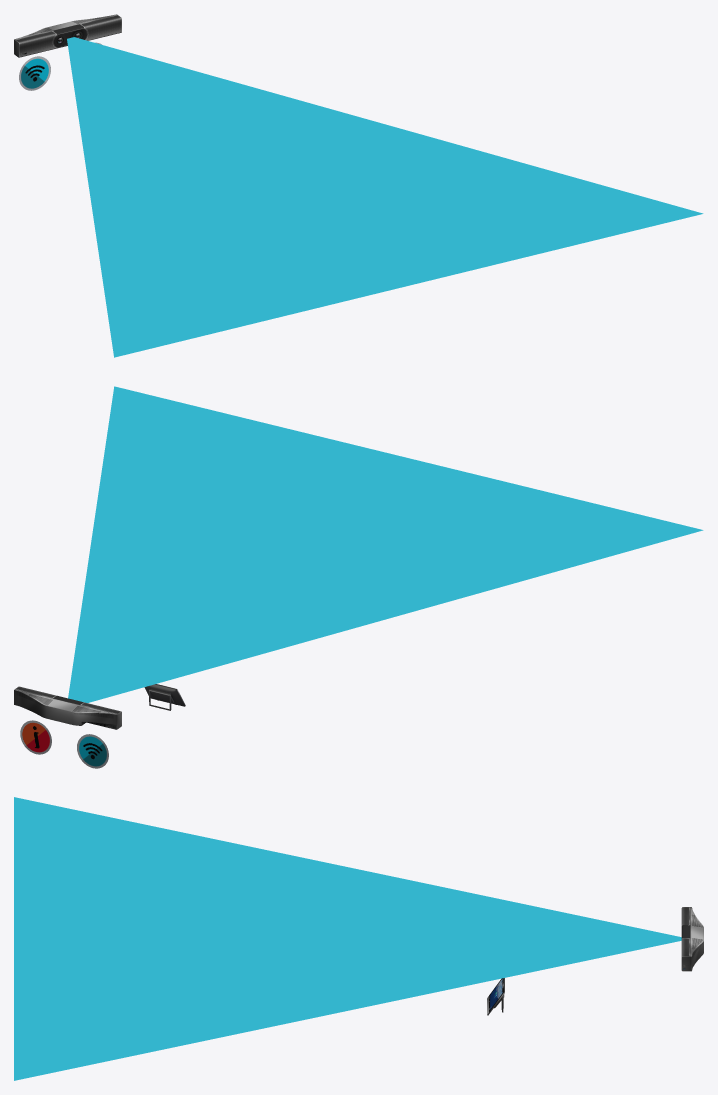
File: SmallProps_Yealink_A20.glb
The picture shows the model from 3 angles, top to bottom: view 1: azimuth 30°, elevation 25°; view 2: azimuth 150°, elevation 25°; view 3: azimuth 270°, elevation 25°; orthographic projection.
Parts seen in each view (by area): view 1: Range_Yealink_A20, SmallProps_Yealink_A20, R-Info_Yealink_A20; view 2: Range_Yealink_A20, SmallProps_Yealink_A20, R-Info_Yealink_A20, Info_Yealink_A20, SmallProps_CTP18; view 3: Range_Yealink_A20, SmallProps_Yealink_A20.
Part boxes in pixels (x1,y1,x2,y2): Range_Yealink_A20: (67, 37, 703, 357); SmallProps_Yealink_A20: (14, 14, 121, 57); R-Info_Yealink_A20: (19, 56, 50, 90); Range_Yealink_A20: (68, 386, 703, 702); SmallProps_Yealink_A20: (14, 686, 121, 729); R-Info_Yealink_A20: (77, 734, 108, 768); Info_Yealink_A20: (20, 720, 51, 754); SmallProps_CTP18: (144, 684, 185, 710); Range_Yealink_A20: (14, 797, 681, 1080); SmallProps_Yealink_A20: (681, 907, 703, 971).
Bounding box in the file's own units: 4.26 × 0.5256 × 4.37.
5 materials, 4 textured.
